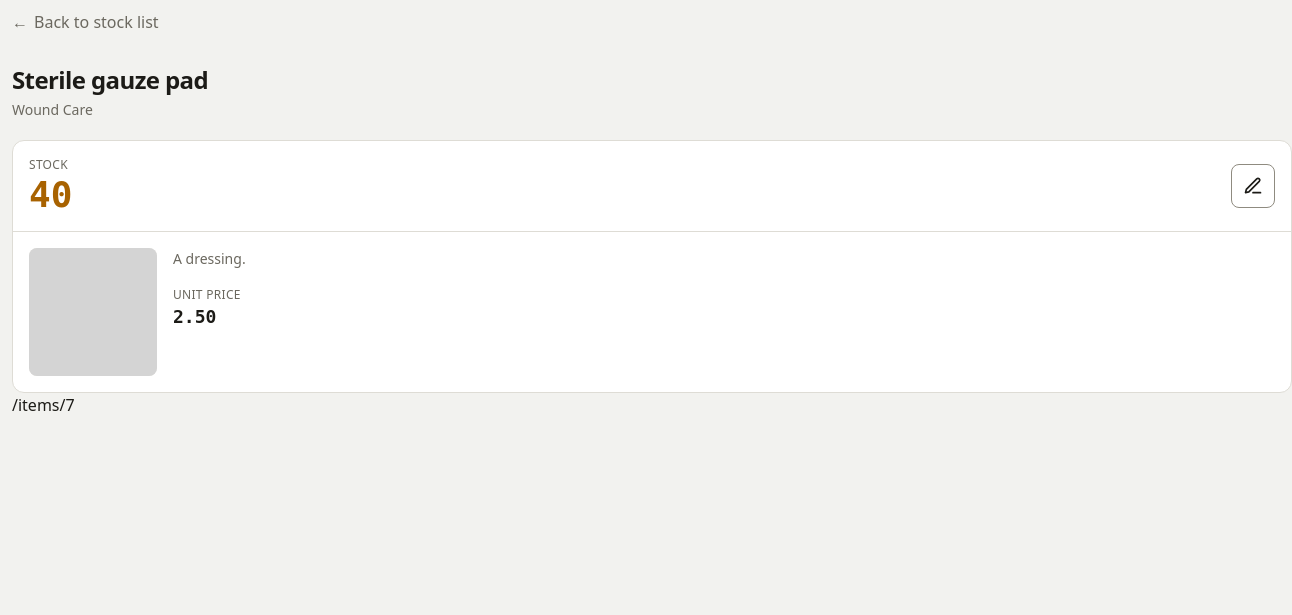
Test: StockCorrectionForm › keeps the typed value and explains the failure when saving fails
The width and height of the screenshot is (1292, 615).
Expected: the heading "Sterile gauze pad" is shown, [12,63,208,96]
Click the button named "Correct stock count". click: point(1253, 186)
box: [1231,164,1275,208]
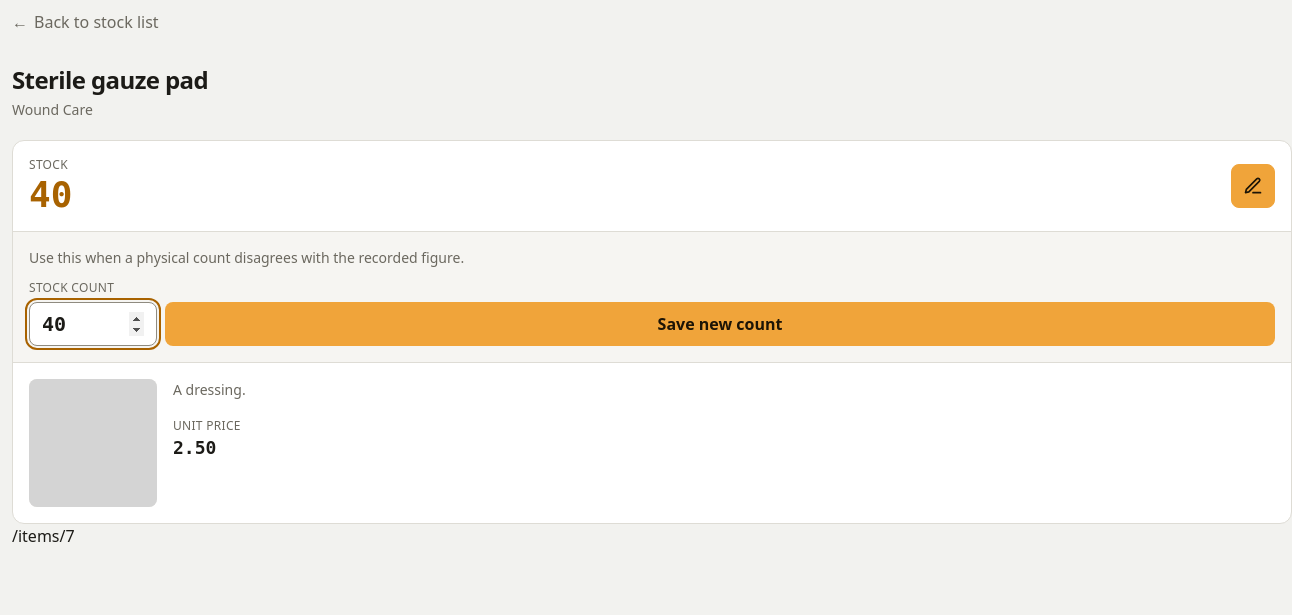
Replace the text in the number field labelled "Stock count" with "31". click: point(93, 324)
box: [29,302,157,346]
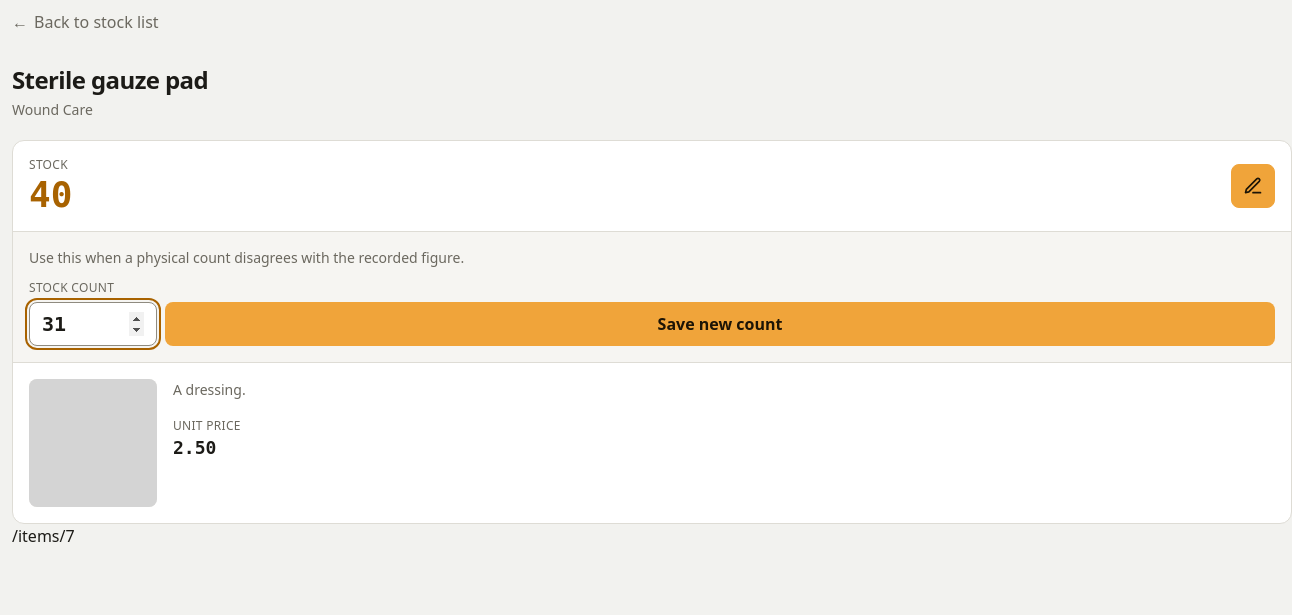
Click the button "Save new count". click: point(720, 324)
box: [165,302,1275,346]
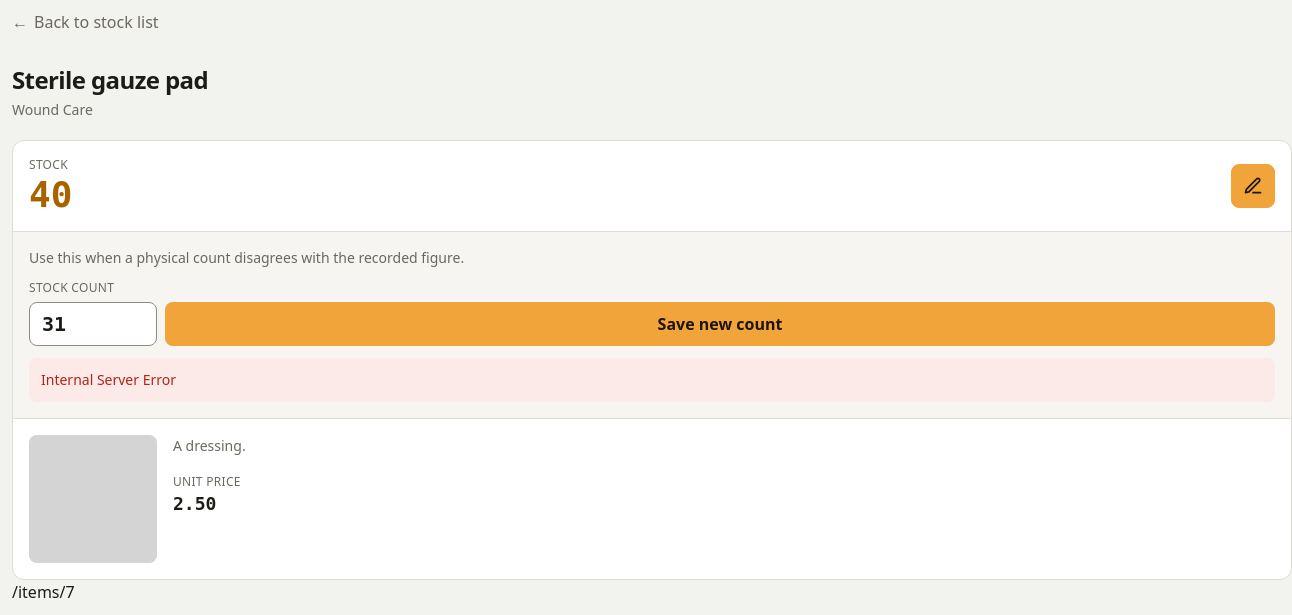
Now the message "Internal Server Error" is shown, box [29,358,1275,402]
Now the message reads "Internal Server Error", box [41,370,176,389]
